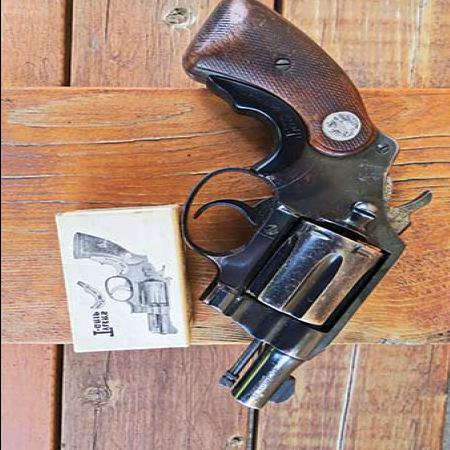Pistol: (181, 2, 433, 414), (72, 234, 180, 336)
